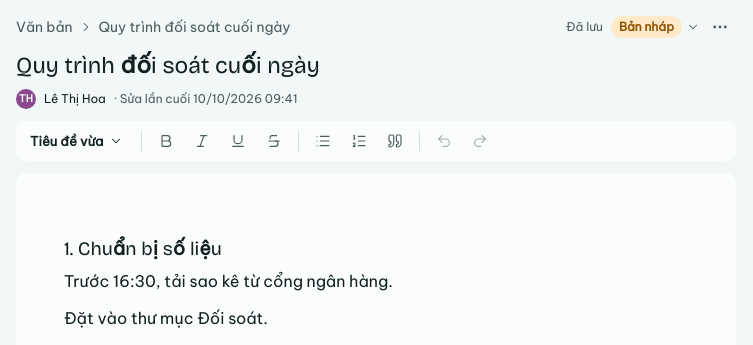
DocumentScreen: saving › does not leave a document without a title
Expected: the field with class "doc-prose" is shown, top-left (64, 237), bottom-right (393, 328)
Clear the field named "Tiêu đề văn bản" at (376, 66), box top-left (16, 51), bottom-right (736, 81)
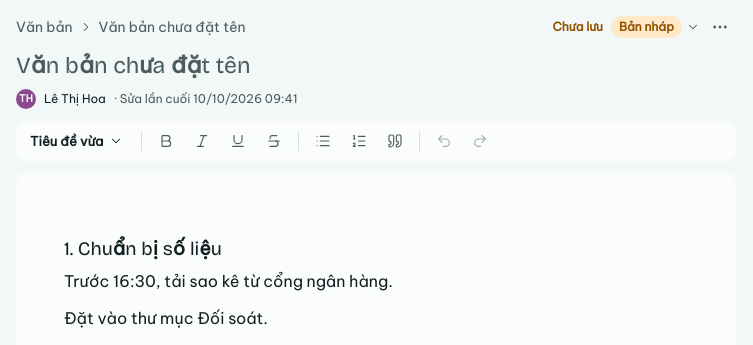
Press Tab
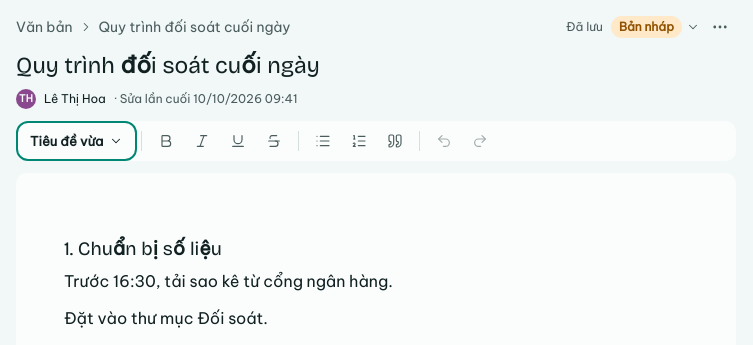
Expected: the field named "Tiêu đề văn bản" holds "Quy trình đối soát cuối ngày", top-left (16, 51), bottom-right (736, 81)
